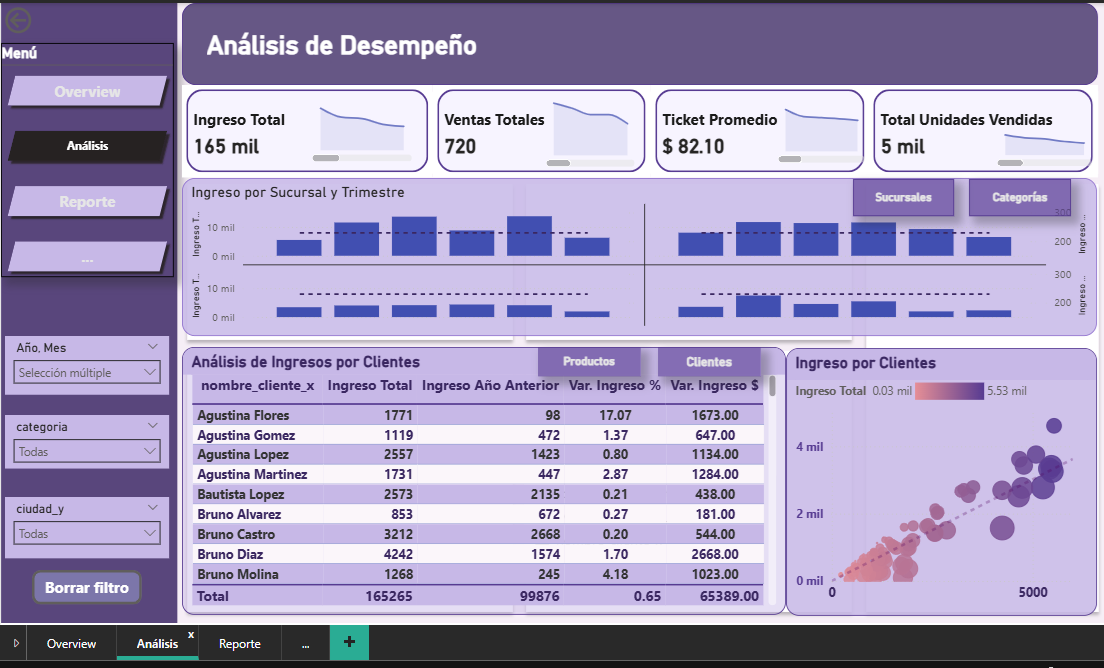

The page's visual inventory and layout, read from the dashboard file:
{"tool":"powerbi","page":{"name":"Análisis","canvas":[1280,720],"ordinal":1},"visuals":[{"type":"slicer","fields":{"Values":["Eje Top Productos Cliente.Eje Top Productos Cliente"]},"box":[605.7,554.3,225.7,95.7],"z":0},{"type":"slicer","fields":{"Values":["DimCalendario.Año","DimCalendario.Mes"]},"box":[5.1,386,190.2,68.1],"z":1000},{"type":"slicer","fields":{"Values":["DimProducto.categoria"]},"box":[5.1,477.2,190.2,61.7],"z":2000},{"type":"slicer","fields":{"Values":["DimSucursal.ciudad_y"]},"box":[5.1,572.3,190.2,70.7],"z":3000},{"type":"pageNavigator","title":"  Menú","box":[0,46.3,200.5,271.2],"z":4000},{"type":"actionButton","box":[36,656.7,127.2,39.8],"z":5000},{"type":"shape","box":[209.5,0,1060.2,95.1],"z":6000},{"type":"cardVisual","fields":{"Data":["Medidas.Ingreso Total"]},"box":[209.6,94.9,290.4,106.6],"z":7000},{"type":"cardVisual","fields":{"Data":["Medidas.Total Órdenes"]},"box":[500.1,94.9,251.8,106.6],"z":8000},{"type":"cardVisual","fields":{"Data":["Medidas.Ticket Promedio"]},"box":[751.8,94.9,253,106.6],"z":9000},{"type":"cardVisual","fields":{"Data":["Medidas.Total Unidades Vendidas"]},"box":[1004.8,94.9,264.7,106.6],"z":10000},{"type":"lineChart","fields":{"Y":["Medidas.Ingreso Total"],"Category":["DimCalendario.MesAño"]},"box":[354.8,104.2,125.3,84.3],"z":11000},{"type":"lineChart","fields":{"Y":["Medidas.Ventas Totales"],"Category":["DimCalendario.MesAño"]},"box":[626.5,101.9,112.4,92.5],"z":12000},{"type":"lineChart","fields":{"Y":["Medidas.Ticket Promedio"],"Category":["DimCalendario.MesAño"]},"box":[894.7,97.2,110.1,92.5],"z":13000},{"type":"lineChart","fields":{"Y":["Medidas.Total Unidades Vendidas"],"Category":["DimCalendario.MesAño"]},"box":[1148.8,131.2,119.5,63.2],"z":14000},{"type":"lineClusteredColumnComboChart","fields":{"Category":["DimSucursal.ciudad_y"],"Y":["Medidas.Ingreso Total"],"Rows":["DimCalendario.Trimestre"],"Y2":["Medidas.Ingreso Promedio Global"]},"box":[210,202.9,1058.6,182.9],"z":15000},{"type":"actionButton","box":[0,0,100,40],"z":16000},{"type":"actionButton","title":"sasa","box":[1120.5,203.7,118.1,42.8],"z":18000},{"type":"actionButton","box":[985.7,204.3,117.1,42.9],"z":19000},{"type":"tableEx","fields":{"Values":["DimCliente.nombre_cliente_x","Medidas.Ingreso Total","Medidas.Ingreso Año Anterior","Medidas.Var. Ingreso %","Medidas.Var. Ingreso $"]},"box":[210,398.6,698.6,310],"z":20000},{"type":"actionButton","title":"sasa","box":[760,398.6,118.6,34.3],"z":21000},{"type":"actionButton","title":"sasa","box":[621.4,398.6,118.6,34.3],"z":22000},{"type":"scatterChart","fields":{"Category":["DimCliente.nombre_cliente_x"],"X":["Medidas.Ingreso Total"],"Y":["Medidas.Ingreso Año Anterior"],"Size":["Medidas.Var. Ingreso $"]},"box":[909,399,360,310],"z":23000}]}

Visuals, with their boxes on the page's 1280x720 design canvas (x1, y1, x2, y2). These are canvas units, not pixel positions in the 1104x668 screenshot, which may show the page scaled, cropped or inside an application window:
slicer - Eje Top Productos Cliente.Eje Top Productos Cliente: {"left": 606, "top": 554, "right": 831, "bottom": 650}
slicer - DimCalendario.Año x DimCalendario.Mes: {"left": 5, "top": 386, "right": 195, "bottom": 454}
slicer - DimProducto.categoria: {"left": 5, "top": 477, "right": 195, "bottom": 539}
slicer - DimSucursal.ciudad_y: {"left": 5, "top": 572, "right": 195, "bottom": 643}
"  Menú" pageNavigator: {"left": 0, "top": 46, "right": 200, "bottom": 318}
actionButton: {"left": 36, "top": 657, "right": 163, "bottom": 696}
shape: {"left": 210, "top": 0, "right": 1270, "bottom": 95}
cardVisual - Medidas.Ingreso Total: {"left": 210, "top": 95, "right": 500, "bottom": 202}
cardVisual - Medidas.Total Órdenes: {"left": 500, "top": 95, "right": 752, "bottom": 202}
cardVisual - Medidas.Ticket Promedio: {"left": 752, "top": 95, "right": 1005, "bottom": 202}
cardVisual - Medidas.Total Unidades Vendidas: {"left": 1005, "top": 95, "right": 1270, "bottom": 202}
lineChart - Medidas.Ingreso Total x DimCalendario.MesAño: {"left": 355, "top": 104, "right": 480, "bottom": 188}
lineChart - Medidas.Ventas Totales x DimCalendario.MesAño: {"left": 626, "top": 102, "right": 739, "bottom": 194}
lineChart - Medidas.Ticket Promedio x DimCalendario.MesAño: {"left": 895, "top": 97, "right": 1005, "bottom": 190}
lineChart - Medidas.Total Unidades Vendidas x DimCalendario.MesAño: {"left": 1149, "top": 131, "right": 1268, "bottom": 194}
lineClusteredColumnComboChart - DimSucursal.ciudad_y x Medidas.Ingreso Total: {"left": 210, "top": 203, "right": 1269, "bottom": 386}
actionButton: {"left": 0, "top": 0, "right": 100, "bottom": 40}
"sasa" actionButton: {"left": 1120, "top": 204, "right": 1239, "bottom": 246}
actionButton: {"left": 986, "top": 204, "right": 1103, "bottom": 247}
tableEx - DimCliente.nombre_cliente_x x Medidas.Ingreso Total: {"left": 210, "top": 399, "right": 909, "bottom": 709}
"sasa" actionButton: {"left": 760, "top": 399, "right": 879, "bottom": 433}
"sasa" actionButton: {"left": 621, "top": 399, "right": 740, "bottom": 433}
scatterChart - DimCliente.nombre_cliente_x x Medidas.Ingreso Total: {"left": 909, "top": 399, "right": 1269, "bottom": 709}
